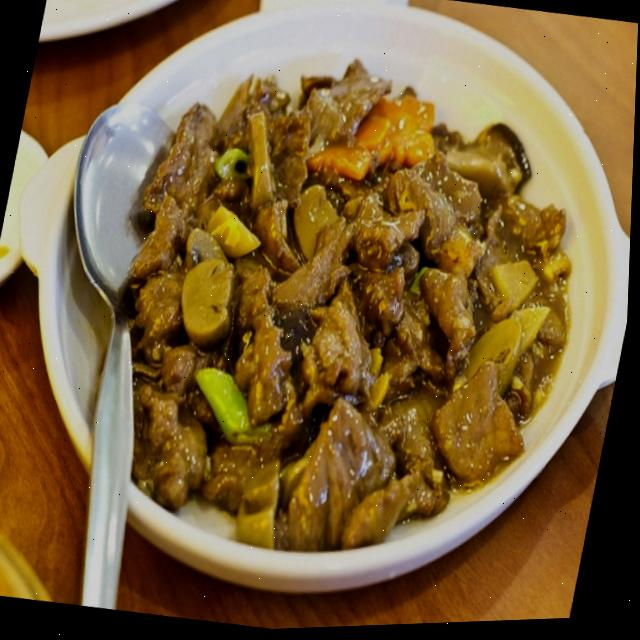牛肉菜式: (79, 20, 625, 583)
